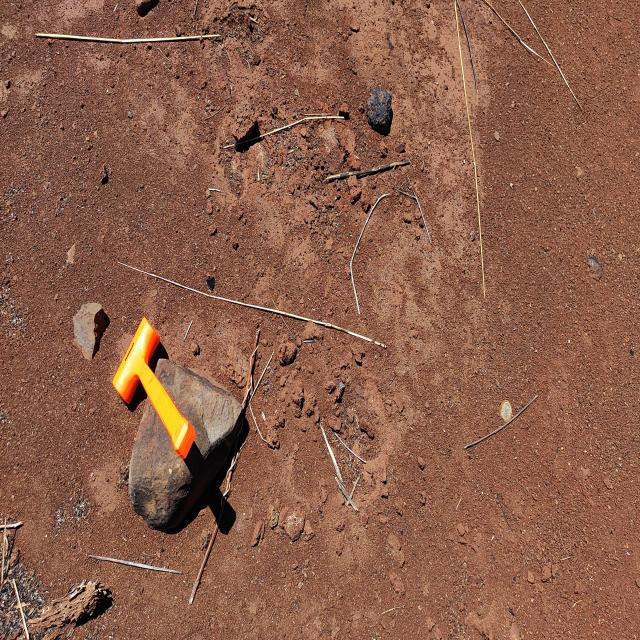Orange_hammer: (111, 315, 197, 461)
rock: (362, 78, 397, 145), (72, 290, 105, 359), (228, 100, 259, 148)
